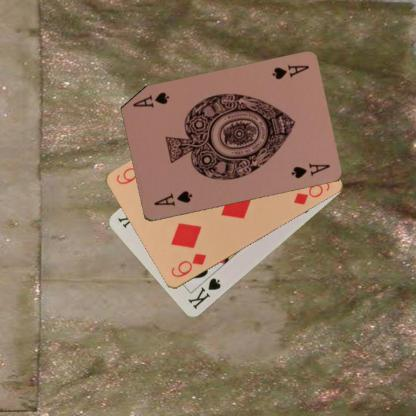6d: (168, 251, 208, 279)
As: (150, 188, 193, 208), (270, 62, 310, 82)
Ks: (185, 276, 222, 310)
